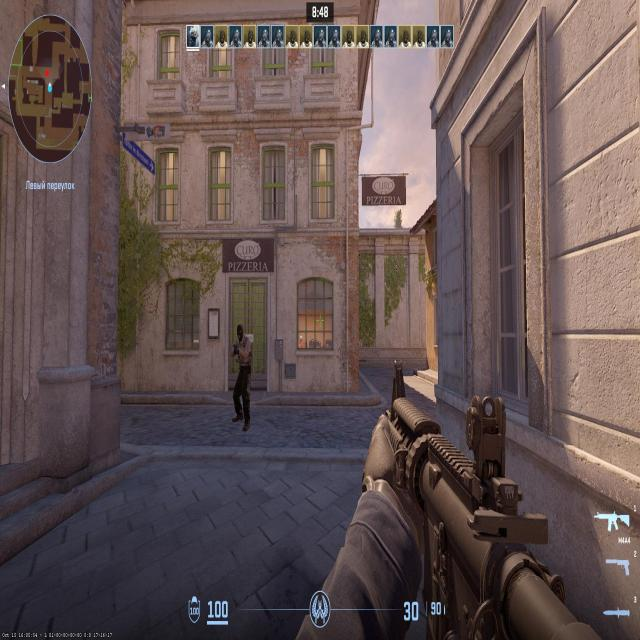T: (234, 325, 249, 426)
T_heat: (238, 328, 244, 343)
